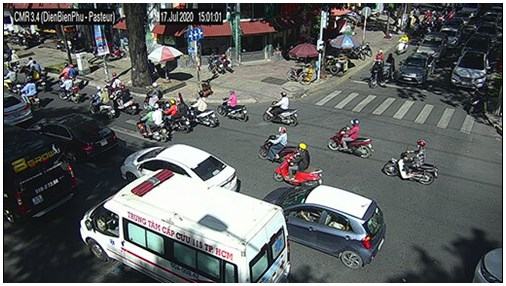xe_cuu_thuong: (79, 169, 292, 283)
xe_hoi: (260, 185, 387, 269), (120, 142, 237, 190), (28, 112, 119, 162), (451, 50, 490, 89), (395, 53, 436, 85), (4, 90, 33, 126), (417, 31, 447, 62), (463, 34, 491, 56), (475, 21, 499, 45), (441, 23, 462, 46), (454, 11, 473, 27)
xe_khach: (4, 128, 77, 224)
xe_may: (383, 138, 438, 185), (272, 142, 324, 186), (327, 119, 372, 160), (135, 102, 168, 142), (263, 91, 298, 127), (258, 128, 297, 160), (190, 90, 218, 128), (217, 90, 248, 122), (165, 96, 191, 133), (89, 85, 115, 119), (110, 85, 138, 115), (57, 74, 82, 104), (19, 76, 41, 107), (142, 81, 165, 110), (369, 59, 383, 89), (6, 66, 21, 94), (383, 53, 396, 83), (58, 63, 76, 81), (37, 66, 49, 92), (106, 72, 121, 92), (396, 34, 409, 54), (375, 50, 384, 66)
